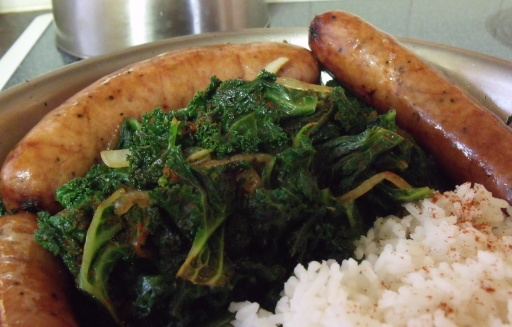background: (0, 5, 410, 167)
